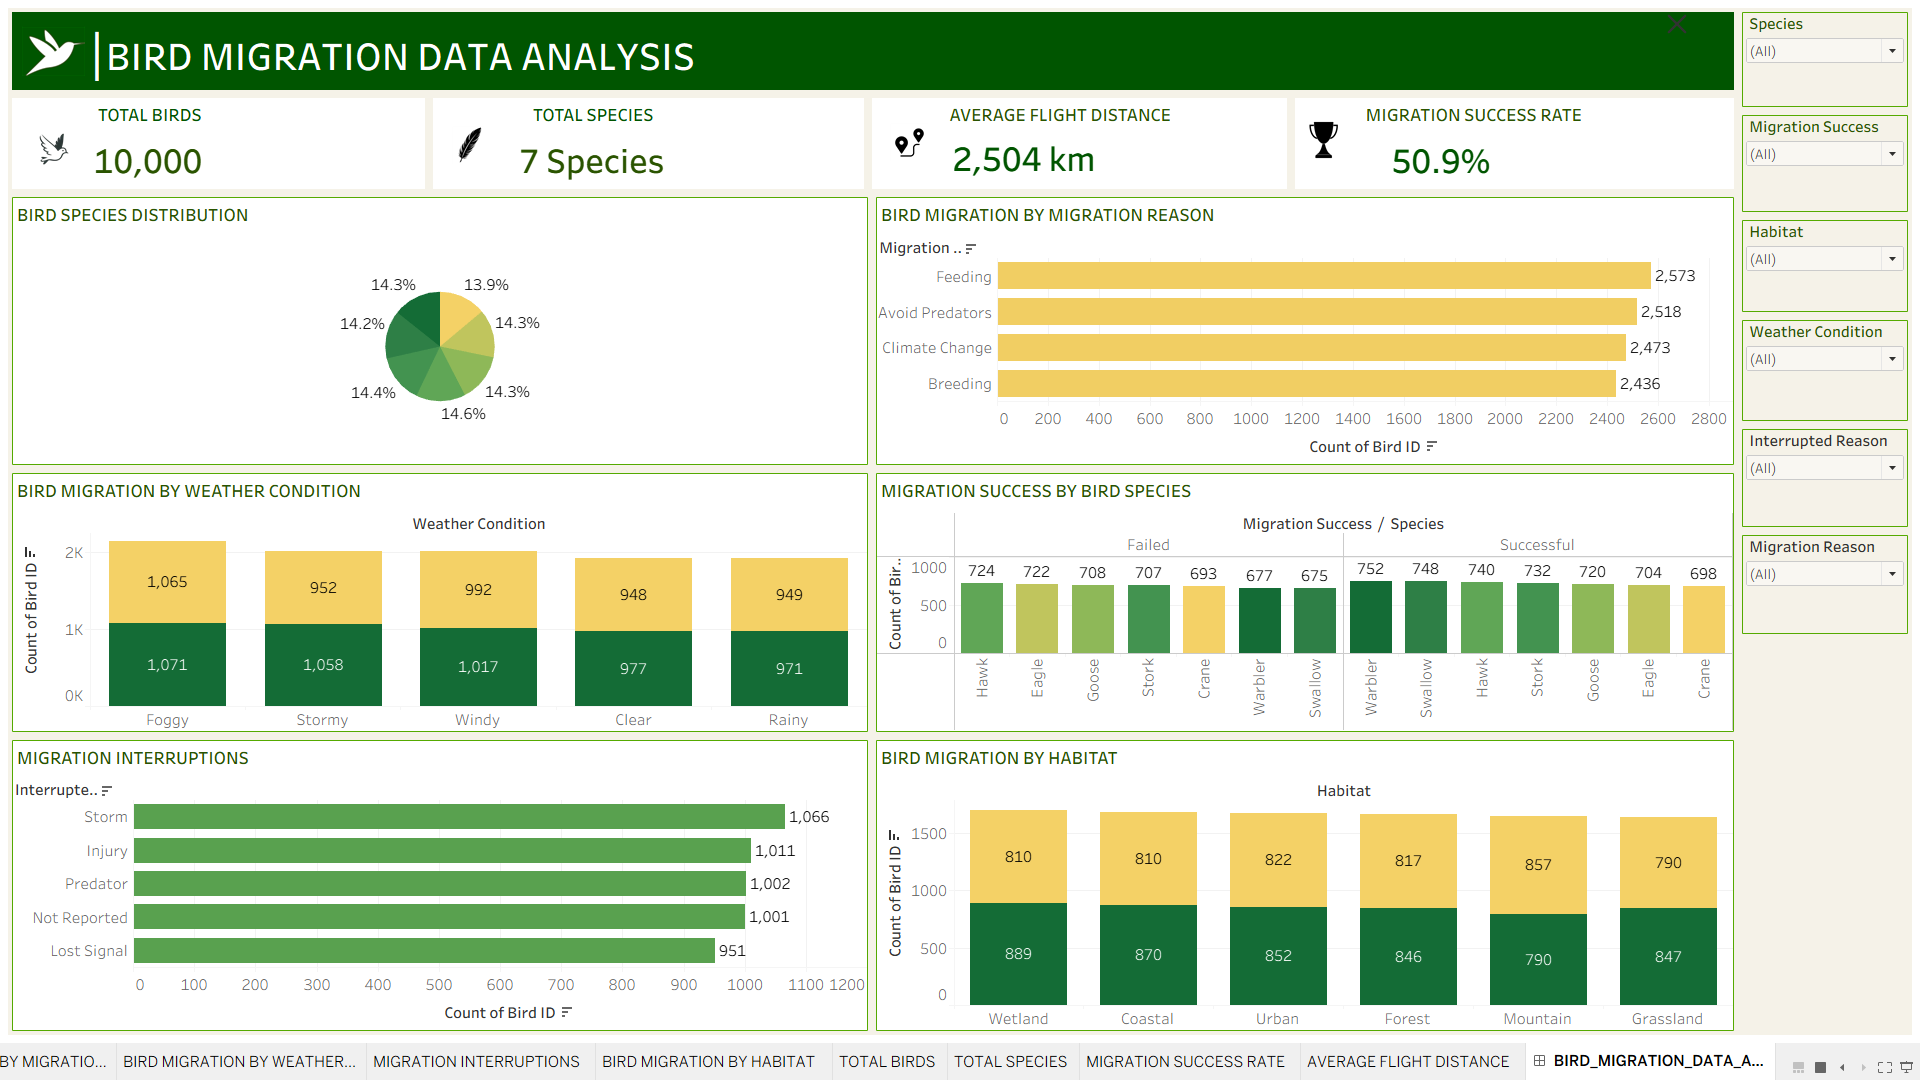

The page's visual inventory and layout, read from the dashboard file:
{"tool":"tableau","page":{"name":" BIRD_MIGRATION_DATA_ANALYSIS_DASHBOARD","canvas":[1000,1000],"units":"permille","ordinal":0},"visuals":[{"type":"title","box":[4.8,9.4,885.3,101.1]},{"type":"dashboard-object","box":[866,9.4,14.5,28.2]},{"type":"filter","title":"BIRD SPECIES DISTRIBUTION","param":"[federated.0aj3r2n03prlpg128whxt0zumxbj].[none:Species:nk]","box":[890.2,9.4,105,121]},{"type":"image","param":"Image/Screenshot 2026-09-06 171243.png","box":[10.9,24.7,33.2,52.9]},{"type":"worksheet","title":"TOTAL BIRDS","mark":"Automatic","box":[4.8,110.5,215.2,116.3]},{"type":"worksheet","title":"TOTAL SPECIES","mark":"Automatic","box":[220.1,110.5,224.7,116.3]},{"type":"worksheet","title":"AVERAGE FLIGHT DISTANCE","mark":"Automatic","box":[444.8,110.5,216.5,116.3]},{"type":"worksheet","title":"MIGRATION SUCCESS RATE","mark":"Automatic","box":[661.3,110.5,228.9,116.3]},{"type":"image","param":"Image/Screenshot 2026-09-06 200755.png","box":[680.8,115.2,21.7,37.6]},{"type":"image","param":"Image/route-icon-symbol-design-illustration-vector.jpg","box":[463.5,117.5,25.9,36.4]},{"type":"image","param":"Image/pngtree-bird-icon-clip-art-png-image_12239562.png","box":[15.1,118.7,29,47]},{"type":"image","param":"Image/Screenshot 2026-09-06 181716.png","box":[235.5,121,23.4,36.4]},{"type":"filter","title":"MIGRATION SUCCESS BY BIRD SPECIES","param":"[federated.0aj3r2n03prlpg128whxt0zumxbj].[none:Migration_Success:nk]","box":[890.2,130.4,105,123.4]},{"type":"worksheet","title":"BIRD SPECIES DISTRIBUTION","mark":"Pie","box":[4.8,226.8,442.2,250.7]},{"type":"worksheet","title":"BIRD MIGRATION BY MIGRATION REASON","mark":"Automatic","rows":["Migration_Reason"],"cols":["Bird_ID"],"box":[447.1,226.8,443.1,250.7]},{"type":"filter","title":"BIRD MIGRATION BY HABITAT","param":"[federated.0aj3r2n03prlpg128whxt0zumxbj].[none:Habitat:nk]","box":[890.2,253.8,105,117.5]},{"type":"filter","title":"BIRD MIGRATION BY WEATHER CONDITION","param":"[federated.0aj3r2n03prlpg128whxt0zumxbj].[none:Weather_Condition:nk]","box":[890.2,371.3,105,128.1]},{"type":"worksheet","title":"BIRD MIGRATION BY WEATHER CONDITION","mark":"Automatic","rows":["Bird_ID"],"cols":["Weather_Condition"],"box":[4.8,477.5,442.3,242.2]},{"type":"worksheet","title":"MIGRATION SUCCESS BY BIRD SPECIES","mark":"Automatic","rows":["Bird_ID"],"cols":["Migration_Success","Species"],"box":[447.1,477.5,443,242.2]},{"type":"filter","title":"MIGRATION INTERRUPTIONS","param":"[federated.0aj3r2n03prlpg128whxt0zumxbj].[none:Interrupted_Reason:nk]","box":[890.2,499.4,105,124.6]},{"type":"filter","title":"BIRD MIGRATION BY MIGRATION REASON","param":"[federated.0aj3r2n03prlpg128whxt0zumxbj].[none:Migration_Reason:nk]","box":[890.2,624,105,125.7]},{"type":"worksheet","title":"MIGRATION INTERRUPTIONS","mark":"Automatic","rows":["Interrupted_Reason"],"cols":["Bird_ID"],"box":[4.8,719.7,442.4,270.9]},{"type":"worksheet","title":"BIRD MIGRATION BY HABITAT","mark":"Automatic","rows":["Bird_ID"],"cols":["Habitat"],"box":[447.2,719.7,442.9,270.9]}]}

Visuals, with their boxes on the dashboard's canvas, which has no fixed pixel size, in thousandths of its width and height (x1, y1, x2, y2). These are canvas units, not pixel positions in the 1920x1080 screenshot, which may show the page scaled, cropped or inside an application window:
title: (x1=5, y1=9, x2=890, y2=110)
dashboard-object: (x1=866, y1=9, x2=880, y2=38)
"BIRD SPECIES DISTRIBUTION" filter: (x1=890, y1=9, x2=995, y2=130)
image: (x1=11, y1=25, x2=44, y2=78)
"TOTAL BIRDS" worksheet: (x1=5, y1=110, x2=220, y2=227)
"TOTAL SPECIES" worksheet: (x1=220, y1=110, x2=445, y2=227)
"AVERAGE FLIGHT DISTANCE" worksheet: (x1=445, y1=110, x2=661, y2=227)
"MIGRATION SUCCESS RATE" worksheet: (x1=661, y1=110, x2=890, y2=227)
image: (x1=681, y1=115, x2=702, y2=153)
image: (x1=464, y1=118, x2=489, y2=154)
image: (x1=15, y1=119, x2=44, y2=166)
image: (x1=236, y1=121, x2=259, y2=157)
"MIGRATION SUCCESS BY BIRD SPECIES" filter: (x1=890, y1=130, x2=995, y2=254)
"BIRD SPECIES DISTRIBUTION" worksheet (Pie marks): (x1=5, y1=227, x2=447, y2=478)
"BIRD MIGRATION BY MIGRATION REASON" worksheet: (x1=447, y1=227, x2=890, y2=478)
"BIRD MIGRATION BY HABITAT" filter: (x1=890, y1=254, x2=995, y2=371)
"BIRD MIGRATION BY WEATHER CONDITION" filter: (x1=890, y1=371, x2=995, y2=499)
"BIRD MIGRATION BY WEATHER CONDITION" worksheet: (x1=5, y1=478, x2=447, y2=720)
"MIGRATION SUCCESS BY BIRD SPECIES" worksheet: (x1=447, y1=478, x2=890, y2=720)
"MIGRATION INTERRUPTIONS" filter: (x1=890, y1=499, x2=995, y2=624)
"BIRD MIGRATION BY MIGRATION REASON" filter: (x1=890, y1=624, x2=995, y2=750)
"MIGRATION INTERRUPTIONS" worksheet: (x1=5, y1=720, x2=447, y2=991)
"BIRD MIGRATION BY HABITAT" worksheet: (x1=447, y1=720, x2=890, y2=991)
